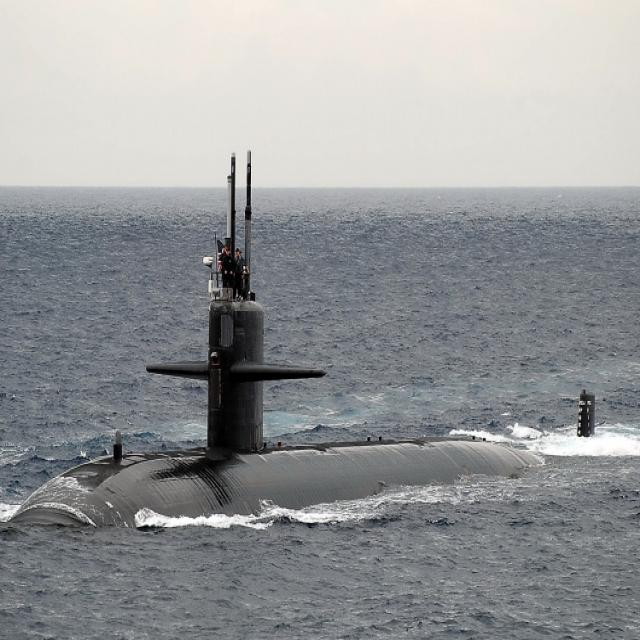submarine: (11, 153, 597, 527)
